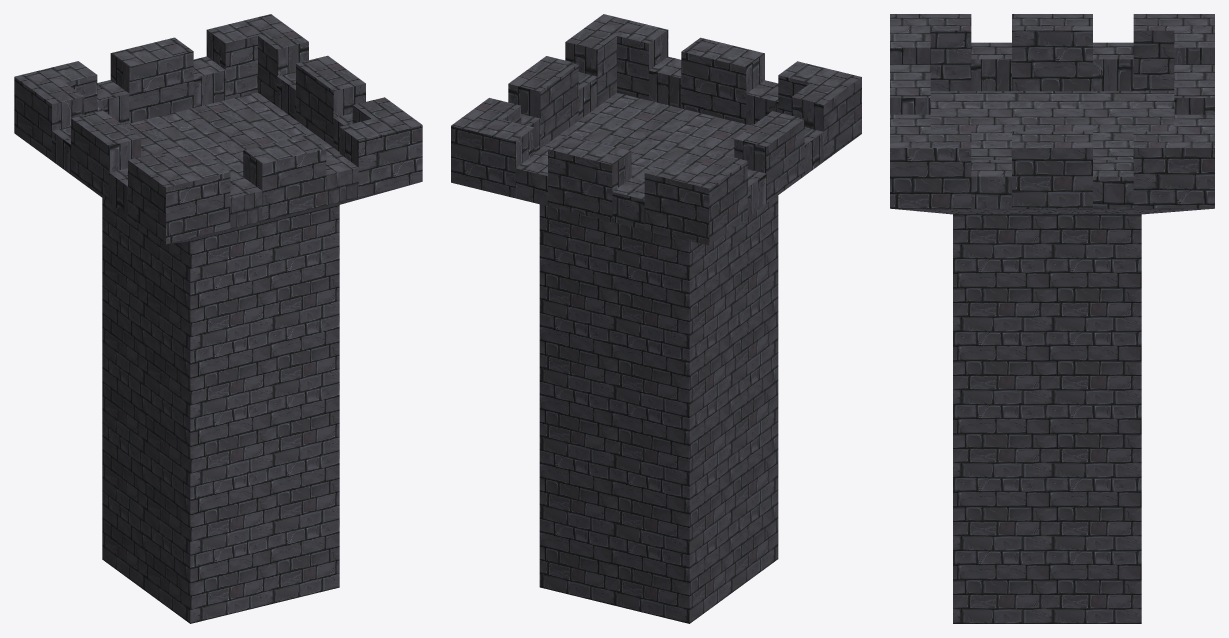
The model's file is torrequadrada.fbx.
The picture shows the model from 3 angles, left to right: view 1: azimuth 30°, elevation 25°; view 2: azimuth 150°, elevation 25°; view 3: azimuth 270°, elevation 25°; orthographic projection. The views are drawn at different scales.
Visible parts, largest first — view 1: Torre quadrada.001; view 2: Torre quadrada.001; view 3: Torre quadrada.001.
Part boxes in pixels (x1,y1,x2,y2): Torre quadrada.001: (14,14,422,623); Torre quadrada.001: (451,14,861,623); Torre quadrada.001: (890,14,1214,623).
Bounding box in the file's own units: 1314 × 2303 × 1345.
1 material, 1 textured.
